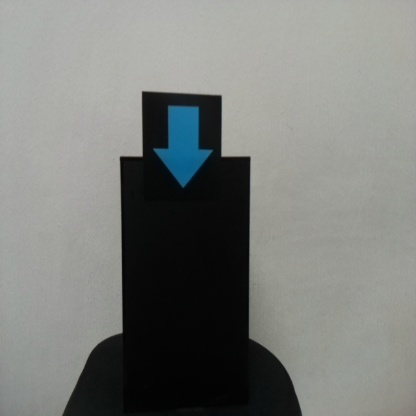id_2: (142, 93, 221, 208)
